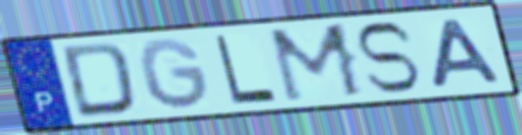A: (430, 16, 508, 90)
D: (59, 40, 140, 120)
G: (135, 36, 214, 112)
L: (212, 32, 281, 106)
M: (265, 20, 369, 106)
S: (352, 20, 424, 96)
